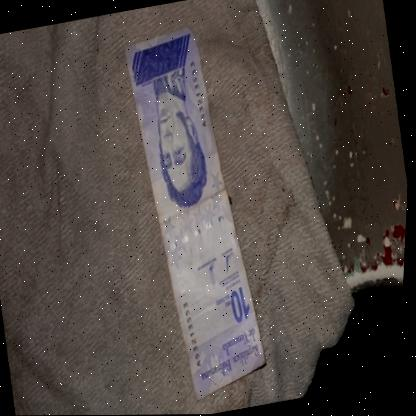vef_front: (108, 23, 284, 405)
